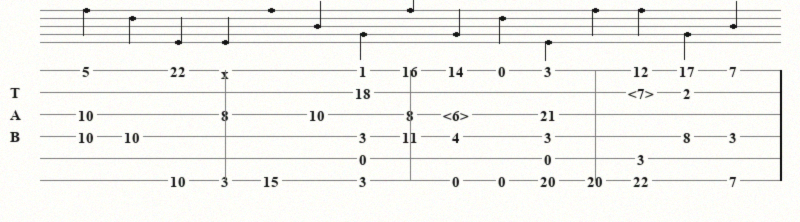0: (359, 151, 371, 165), (452, 173, 464, 187), (498, 173, 510, 187), (498, 63, 510, 77), (544, 151, 556, 165)
1: (359, 63, 371, 77)
10: (78, 129, 98, 143), (78, 107, 98, 121), (124, 129, 144, 143), (170, 173, 190, 187), (309, 107, 329, 121)
11: (402, 129, 422, 143)
12: (633, 63, 653, 77)
14: (448, 63, 468, 77)
15: (263, 173, 283, 187)
16: (402, 63, 422, 77)
17: (679, 63, 699, 77)
18: (355, 85, 375, 99)
2: (683, 85, 695, 99)
20: (540, 173, 560, 187), (587, 173, 607, 187)
21: (540, 107, 560, 121)
22: (170, 63, 190, 77), (633, 173, 653, 187)
3: (221, 173, 233, 187), (359, 129, 371, 143), (359, 173, 371, 187), (544, 63, 556, 77), (544, 129, 556, 143), (637, 151, 649, 165), (729, 129, 741, 143)
4: (452, 129, 464, 143)
5: (82, 63, 94, 77)
7: (729, 173, 741, 187), (729, 63, 741, 77)
8: (221, 107, 233, 121), (406, 107, 418, 121), (683, 129, 695, 143)
harmonic: (443, 107, 473, 121), (628, 85, 658, 99)
x: (221, 65, 233, 76)
